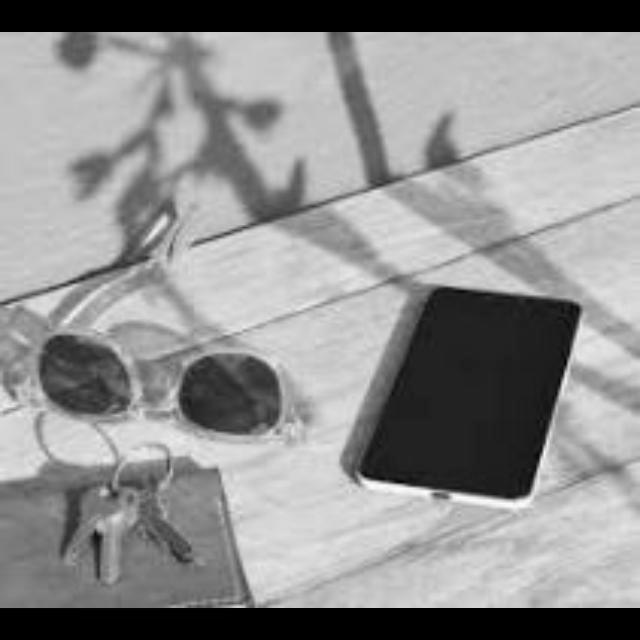fake: (349, 286, 581, 501)
